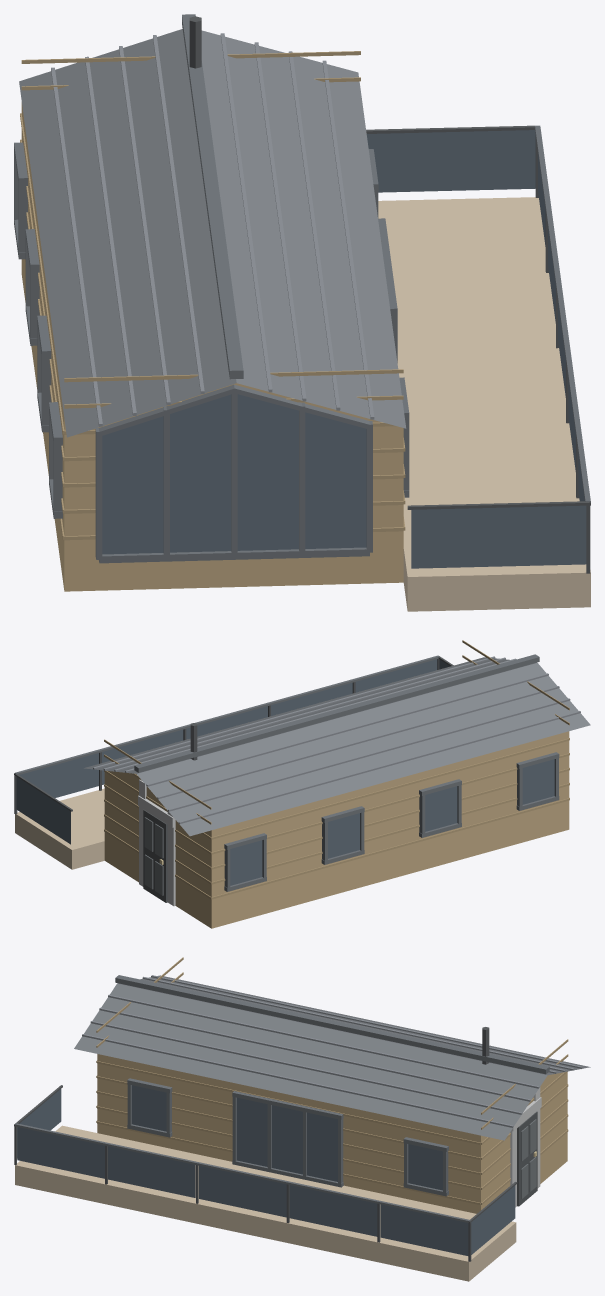
3 renders of one model, top to bottom at view 1: azimuth 30°, elevation 25°; view 2: azimuth 150°, elevation 25°; view 3: azimuth 270°, elevation 25°, orthographic. The views are drawn at different scales.
Parts seen in each view (by area): view 1: slate, larch, window_glass_013, slate_dk, door_wood, slate_lt, window_glass_006, window_glass_007, door_wood_p, pipe; view 2: door_wood, slate, slate_dk, slate_lt, door_wood_p, larch, window_glass_005, window_glass_007, stone_band, window_glass_014, window_glass_016, window_glass_017 (+8 smaller); view 3: slate, door_wood, larch, slate_dk, slate_lt, door_wood_p, window_glass_005, window_glass_004, window_glass_003, window_glass_001, window_glass_002, window_glass_010 (+10 smaller).
Boxes of the visible parts, bbox=[...] form: slate: bbox=[19, 29, 406, 437]; larch: bbox=[378, 197, 590, 611]; window_glass_013: bbox=[102, 394, 366, 554]; slate_dk: bbox=[14, 14, 590, 563]; door_wood: bbox=[21, 102, 403, 591]; slate_lt: bbox=[51, 33, 374, 426]; window_glass_006: bbox=[411, 505, 586, 568]; window_glass_007: bbox=[366, 130, 535, 192]; door_wood_p: bbox=[20, 51, 405, 540]; pipe: bbox=[189, 16, 590, 573]; door_wood: bbox=[104, 731, 569, 928]; slate: bbox=[84, 657, 590, 836]; slate_dk: bbox=[15, 654, 559, 891]; slate_lt: bbox=[93, 656, 580, 823]; door_wood_p: bbox=[104, 640, 569, 899]; larch: bbox=[15, 788, 104, 869]; window_glass_005: bbox=[19, 753, 98, 797]; window_glass_007: bbox=[16, 776, 70, 844]; stone_band: bbox=[138, 779, 175, 906]; window_glass_014: bbox=[230, 840, 262, 885]; window_glass_016: bbox=[425, 786, 457, 831]; window_glass_017: bbox=[522, 759, 554, 804]; slate: bbox=[74, 975, 590, 1140]; door_wood: bbox=[97, 1054, 567, 1213]; larch: bbox=[15, 1125, 516, 1281]; slate_dk: bbox=[15, 975, 549, 1222]; slate_lt: bbox=[82, 975, 582, 1127]; door_wood_p: bbox=[96, 957, 568, 1205]; window_glass_005: bbox=[380, 1204, 468, 1255]; window_glass_004: bbox=[289, 1185, 377, 1236]; window_glass_003: bbox=[199, 1165, 286, 1217]; window_glass_001: bbox=[17, 1127, 104, 1178]; window_glass_002: bbox=[108, 1146, 195, 1197]; window_glass_010: bbox=[307, 1112, 337, 1181].
Size of the model in its own units: 11.24 by 4.07 by 13.21.
